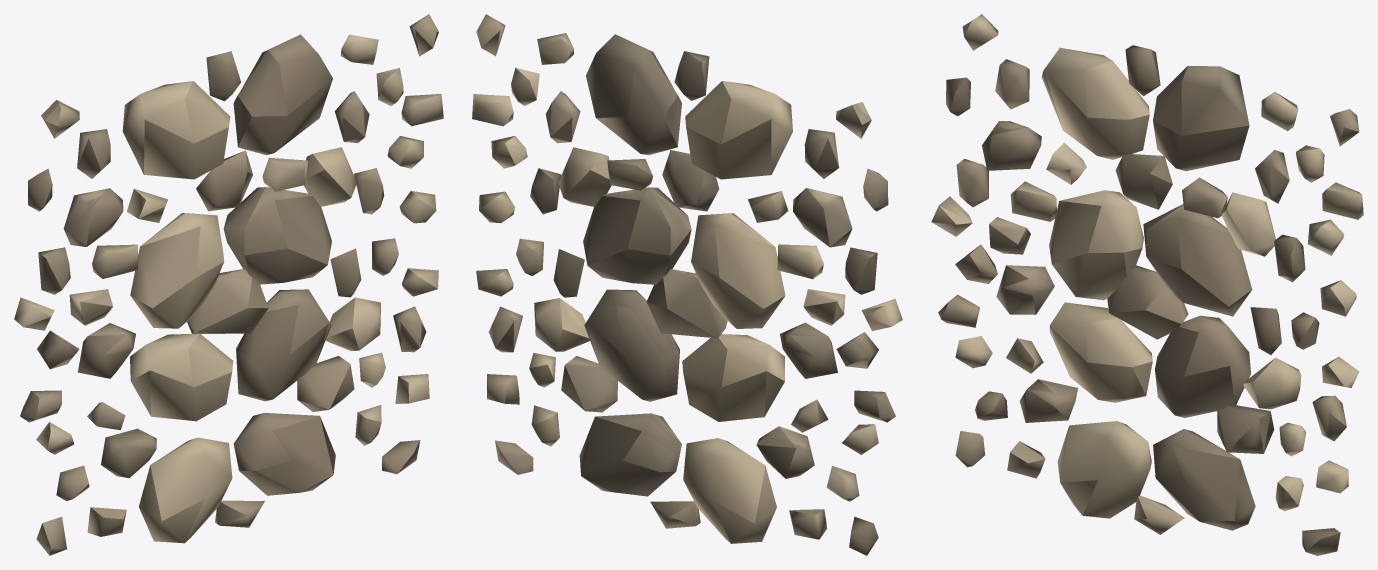
The model's file is stone_scatter_a.glb.
The picture shows the model from 3 angles, left to right: view 1: azimuth 30°, elevation 25°; view 2: azimuth 150°, elevation 25°; view 3: azimuth 330°, elevation 25°; orthographic projection.
Parts seen in each view (by area): view 1: mesh_node; view 2: mesh_node; view 3: mesh_node.
Boxes of the visible parts, x1=… form: mesh_node: x1=14, y1=14, x2=443, y2=555; mesh_node: x1=472, y1=14, x2=902, y2=555; mesh_node: x1=931, y1=14, x2=1363, y2=555.
Bounding box in the file's own units: 0.9297 × 1 × 0.1033.
Materials: 1 (1 with a texture image).
